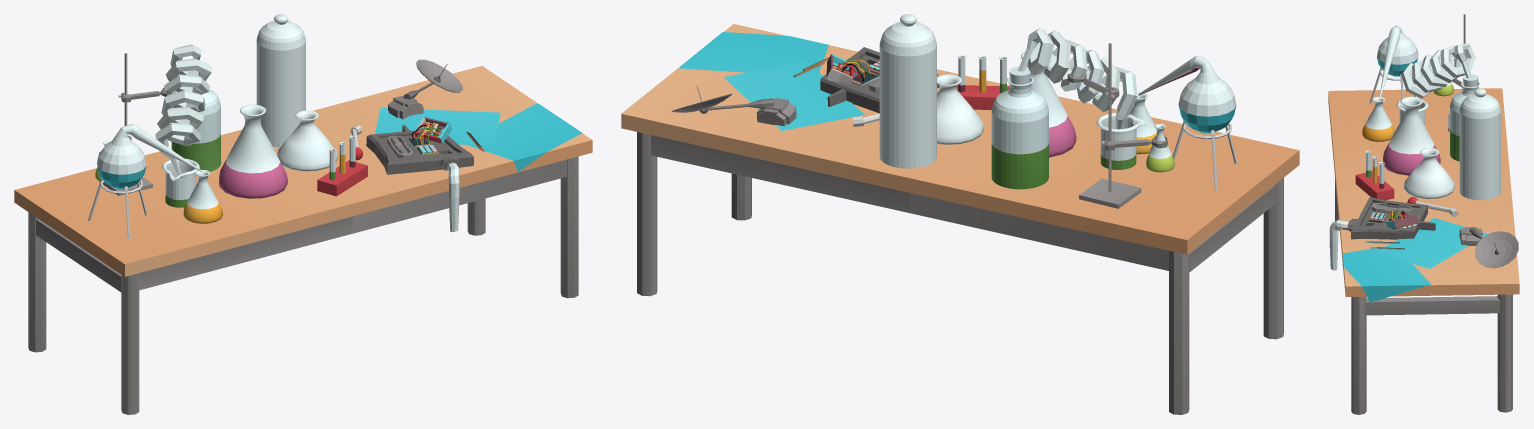
File: table.fbx
3 renders of one model, left to right at view 1: azimuth 30°, elevation 25°; view 2: azimuth 150°, elevation 25°; view 3: azimuth 270°, elevation 25°, orthographic. The views are drawn at different scales.
Parts seen in each view (by area): view 1: Cube.030, Cube.005, Plane.002, Circle.006, Cube.017, Circle.009, Cylinder.001, Sphere, Cylinder.002, Circle.007, Cube.011, Cube.019 (+3 smaller); view 2: Cube.030, Cube.005, Plane.002, Circle.006, Circle.007, Circle.009, Sphere, Cube.017, Cylinder.002, Cylinder.001, Circle.008, Cube.019 (+5 smaller); view 3: Cube.030, Cube.005, Plane.002, Circle.006, Cube.017, Circle.009, Cylinder.001, Cube.019, Cylinder.002, Sphere, Cube.011, Circle.007 (+5 smaller).
Part boxes in pixels (<box>): Cube.030: <box>14,66,592,276</box>; Cube.005: <box>28,156,578,414</box>; Plane.002: <box>375,103,582,171</box>; Circle.006: <box>256,14,305,147</box>; Cube.017: <box>366,117,473,232</box>; Circle.009: <box>155,44,212,174</box>; Cylinder.001: <box>219,104,287,198</box>; Sphere: <box>97,124,202,189</box>; Cylinder.002: <box>277,110,337,171</box>; Circle.007: <box>171,78,220,171</box>; Cube.011: <box>317,135,367,196</box>; Cube.019: <box>388,59,462,119</box>; Cube.030: <box>621,24,1299,254</box>; Cube.005: <box>637,132,1283,414</box>; Plane.002: <box>679,32,864,130</box>; Circle.006: <box>879,14,936,168</box>; Circle.007: <box>991,66,1048,189</box>; Circle.009: <box>1018,28,1137,129</box>; Sphere: <box>1138,55,1236,133</box>; Cube.017: <box>820,47,939,113</box>; Cylinder.002: <box>937,74,984,144</box>; Cylinder.001: <box>1021,52,1076,157</box>; Circle.008: <box>1096,113,1146,169</box>; Cube.019: <box>671,85,796,126</box>; Cube.030: <box>1328,88,1519,297</box>; Cube.005: <box>1335,179,1512,414</box>; Plane.002: <box>1342,218,1488,302</box>; Circle.006: <box>1459,88,1500,200</box>; Cube.017: <box>1329,197,1435,270</box>; Circle.009: <box>1401,43,1475,98</box>; Cylinder.001: <box>1383,96,1440,175</box>; Cube.019: <box>1459,227,1518,268</box>; Cylinder.002: <box>1404,148,1454,198</box>; Sphere: <box>1377,25,1418,98</box>; Cube.011: <box>1355,150,1394,200</box>; Circle.007: <box>1450,74,1480,161</box>.
Size of the model in its own units: 1968 by 1117 by 802.
Materials: 1 (1 with a texture image).
